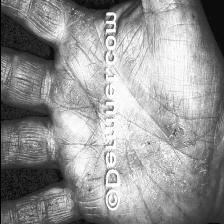Non-Cancerous Skin Condition: (122, 28, 224, 219), (51, 18, 94, 180)
